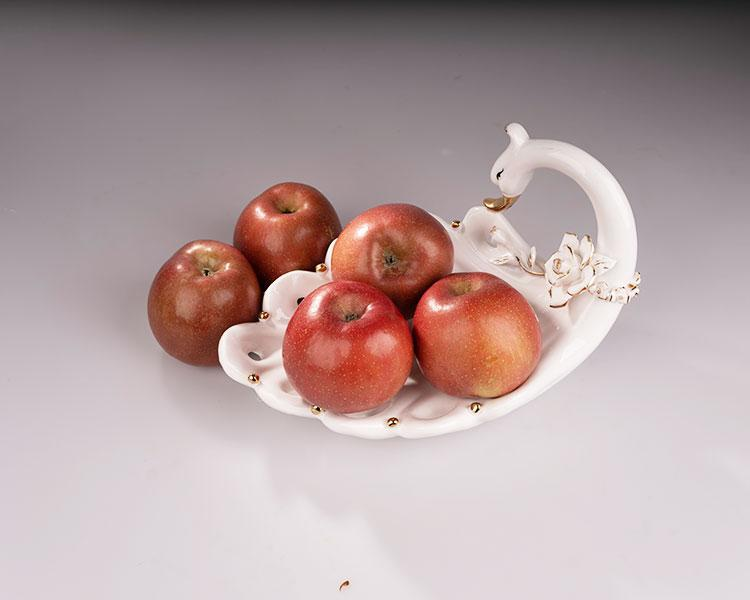apple: (281, 277, 414, 414), (411, 271, 542, 398), (142, 236, 263, 368), (327, 204, 457, 318), (233, 181, 340, 284)
